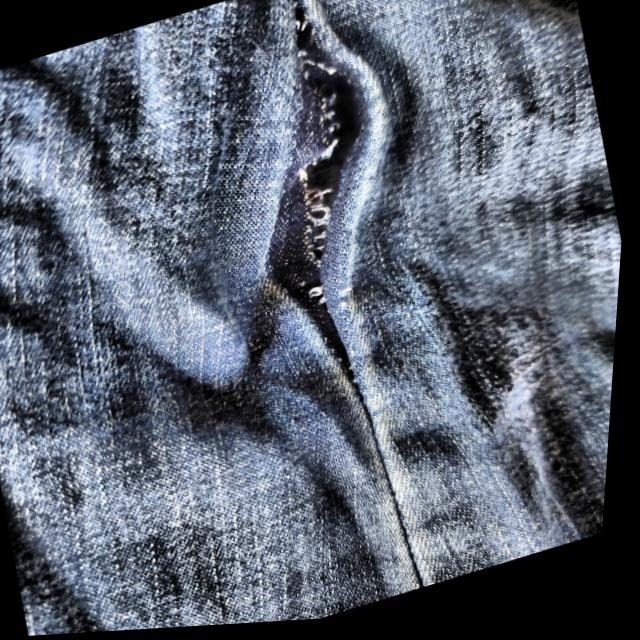seam: (212, 0, 458, 408)
